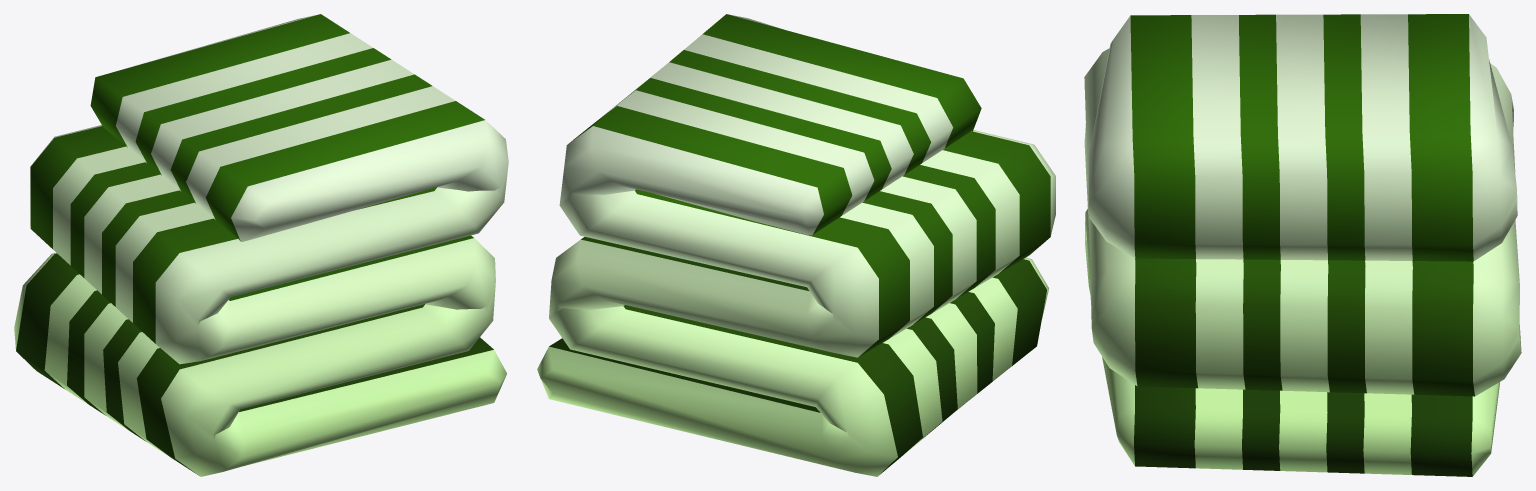
Rendered from SM_Towel_6.fbx.
3 renders of one model, left to right at view 1: azimuth 30°, elevation 25°; view 2: azimuth 150°, elevation 25°; view 3: azimuth 270°, elevation 25°, orthographic. The views are drawn at different scales.
Visible parts, largest first — view 1: SM_Towel_6; view 2: SM_Towel_6; view 3: SM_Towel_6.
Boxes of the visible parts, box(x1,y1,x2,y2) form: SM_Towel_6: box(14, 14, 508, 476); SM_Towel_6: box(537, 14, 1055, 476); SM_Towel_6: box(1084, 14, 1521, 476).
Bounding box in the file's own units: 38.39 × 28.36 × 34.8.
1 material, 1 textured.
